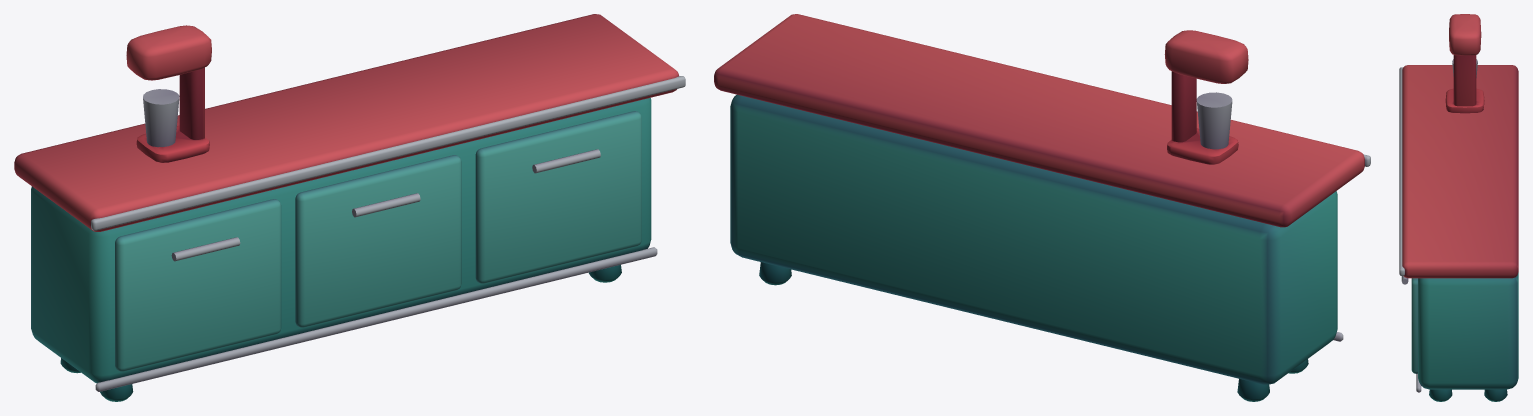
File: cabinet_retro.glb
3 views of the same model, side by side, from view 1: azimuth 30°, elevation 25°; view 2: azimuth 150°, elevation 25°; view 3: azimuth 270°, elevation 25° (orthographic). The views are drawn at different scales.
Parts seen in each view (by area): view 1: cabinet_retro; view 2: cabinet_retro; view 3: cabinet_retro.
Part boxes in pixels (x1=…): cabinet_retro: x1=14, y1=14, x2=685, y2=401; cabinet_retro: x1=714, y1=14, x2=1370, y2=401; cabinet_retro: x1=1399, y1=14, x2=1518, y2=401.
Size of the model in its own units: 2.96 by 1.58 by 0.735.
